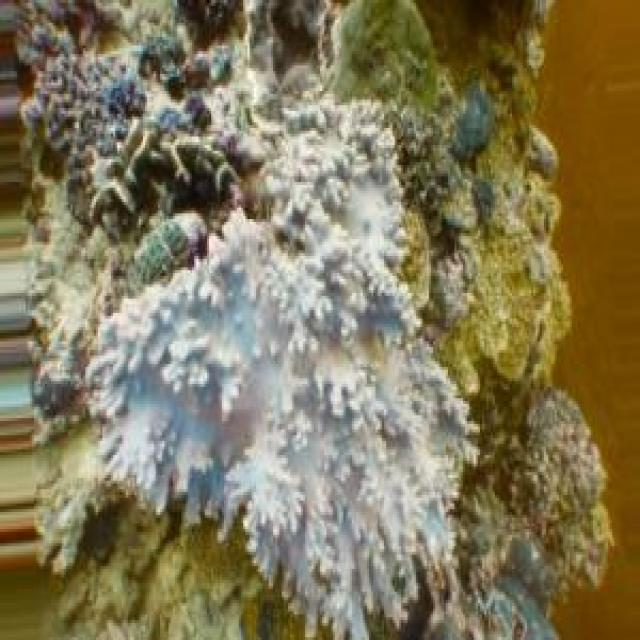Bleached: (14, 1, 615, 640), (91, 106, 562, 640), (37, 311, 268, 640), (52, 24, 259, 240), (515, 388, 613, 593), (336, 1, 466, 146)
